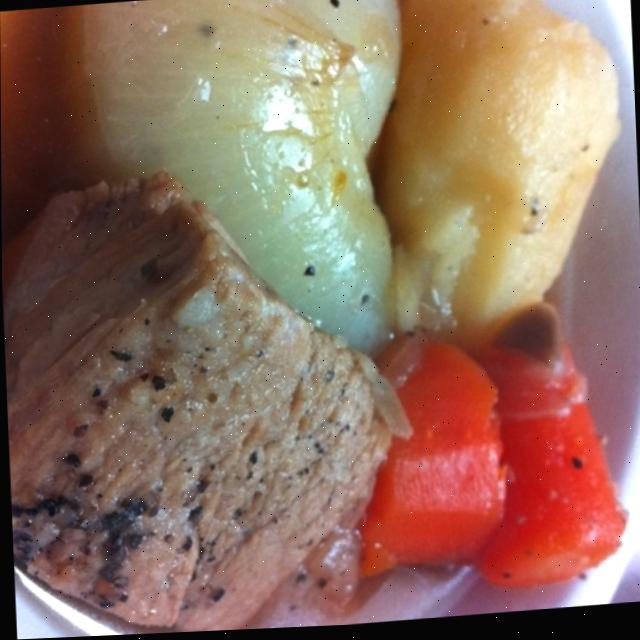汤锅炖物: (2, 0, 640, 640)
